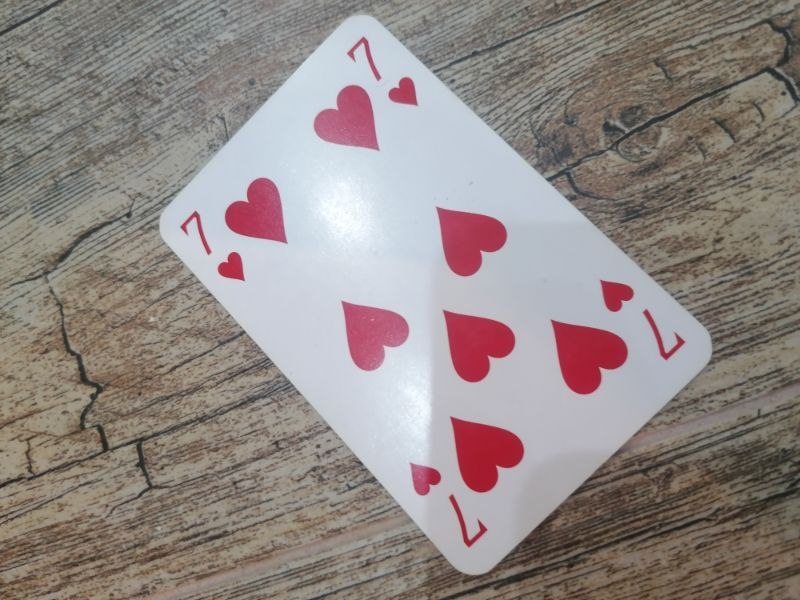7h: (401, 456, 493, 551), (596, 276, 690, 360), (343, 33, 425, 111), (177, 208, 252, 287)
